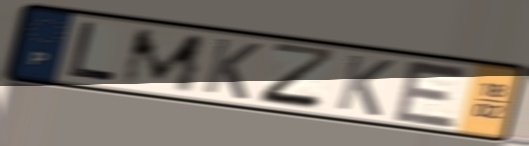E: (390, 57, 473, 131)
K: (332, 52, 398, 119), (199, 35, 265, 102)
L: (64, 19, 119, 85)
M: (117, 27, 208, 95)
Z: (255, 40, 341, 113)
